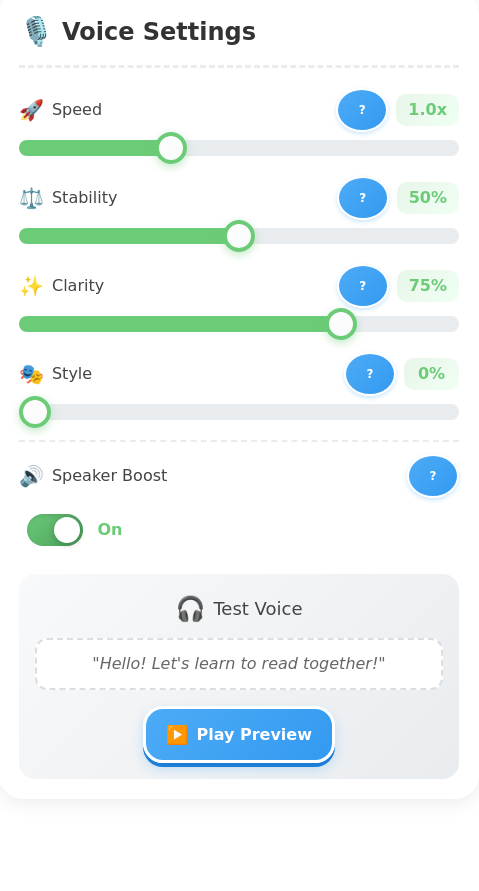
Test case: VoiceParameterSliders › tooltips › only shows one tooltip at a time
This screenshot has width=479, height=891.
Click the button named "info about speed".
click(362, 110)  # box [336,88,388,132]
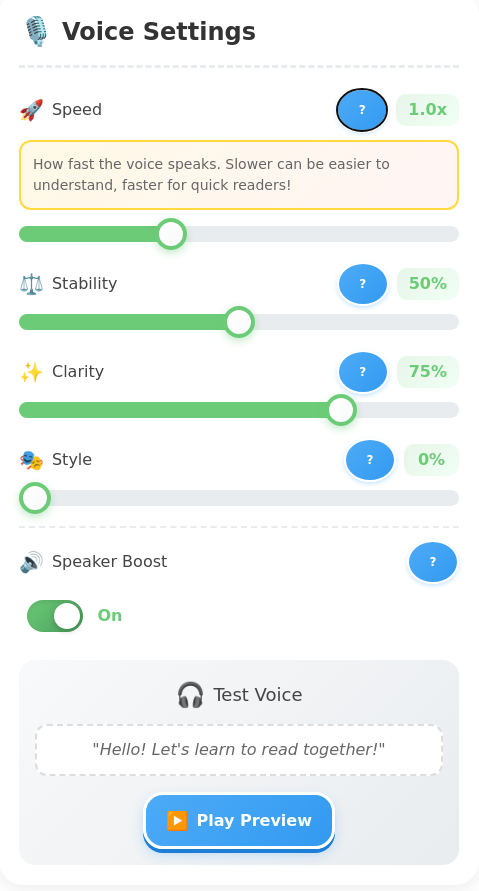
Expected: the text "How fast the voice speaks" is shown, [33,156,390,193]
Click the button named "info about stability".
click(363, 284)  # box [337,262,389,306]
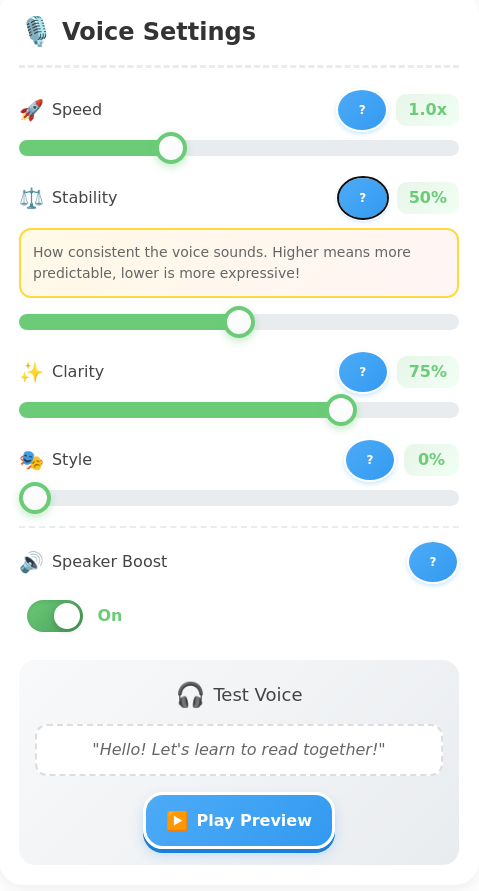
Expected: the text "How fast the voice speaks" is gone
Expected: the text "How consistent the voice sounds" is shown, [33,244,411,281]
